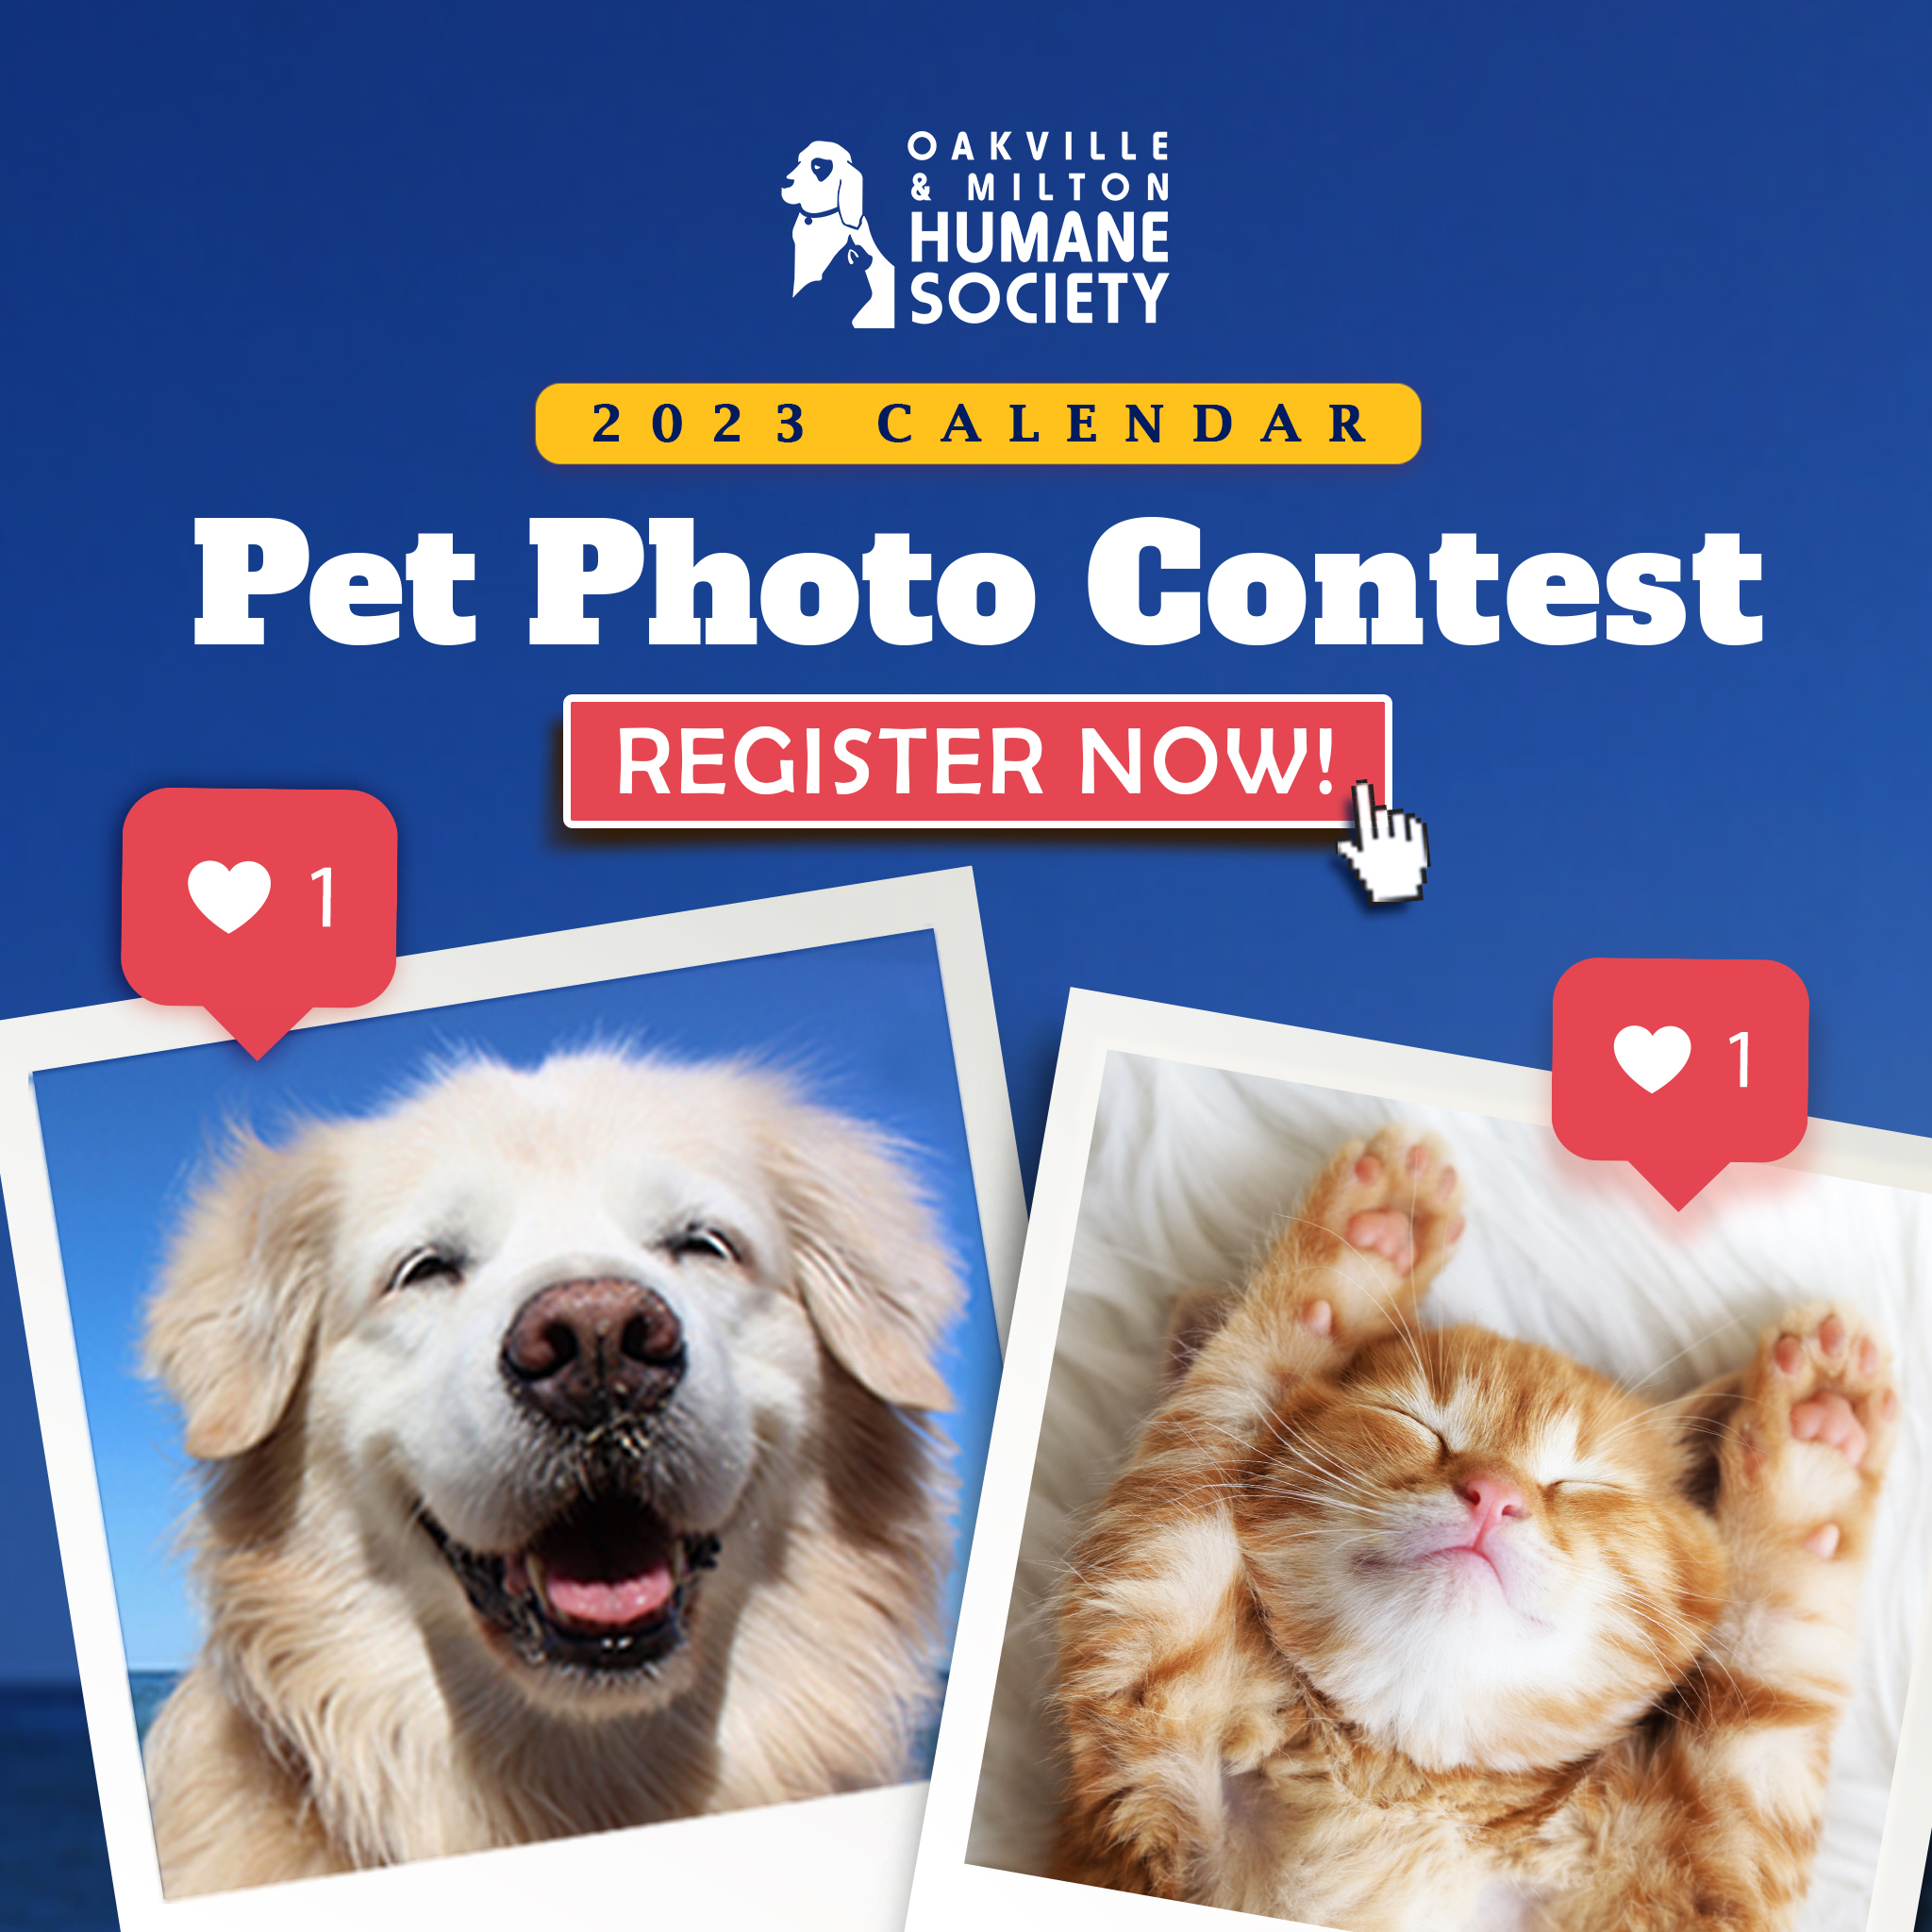pet: (157, 957, 925, 1900)
